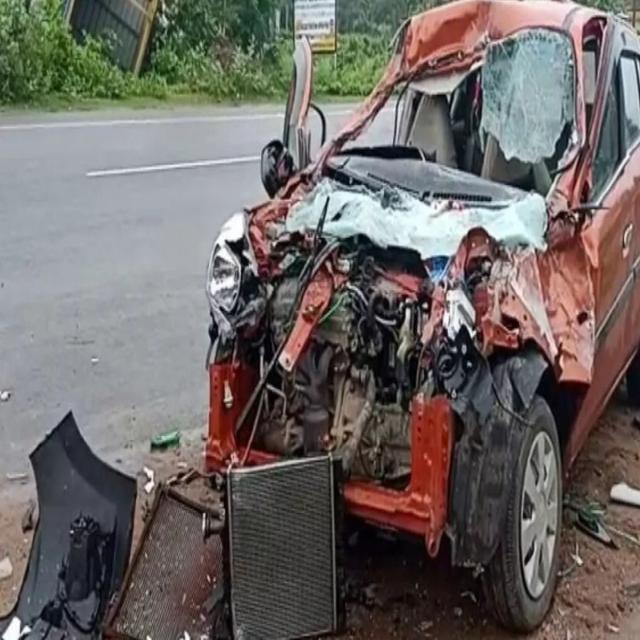crush: (203, 0, 612, 569)
